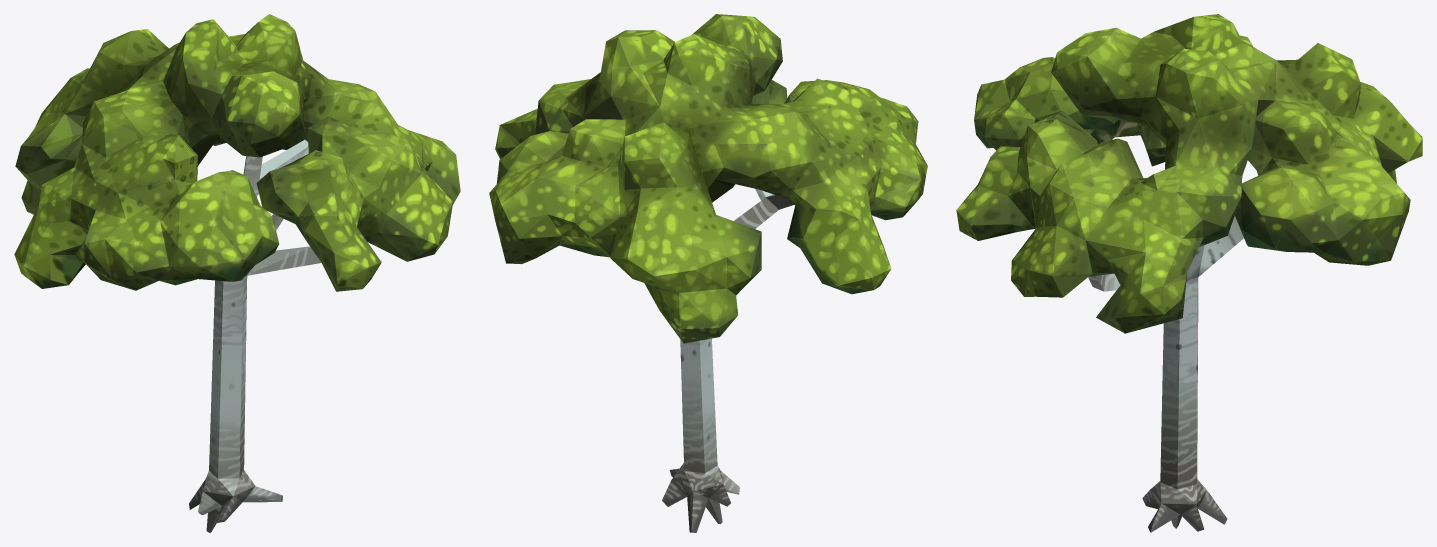
File: tree.glb
3 renders of one model, left to right at view 1: azimuth 30°, elevation 25°; view 2: azimuth 150°, elevation 25°; view 3: azimuth 270°, elevation 25°, orthographic. The views are drawn at different scales.
Parts seen in each view (by area): view 1: Icosphere.000; view 2: Icosphere.000; view 3: Icosphere.000.
Boxes of the visible parts, x1,y1,x2,y2 form: Icosphere.000: [14, 14, 460, 532]; Icosphere.000: [489, 14, 927, 532]; Icosphere.000: [956, 14, 1422, 532].
Size of the model in its own units: 9.4 by 10.83 by 8.79.
Materials: 1 (1 with a texture image).
